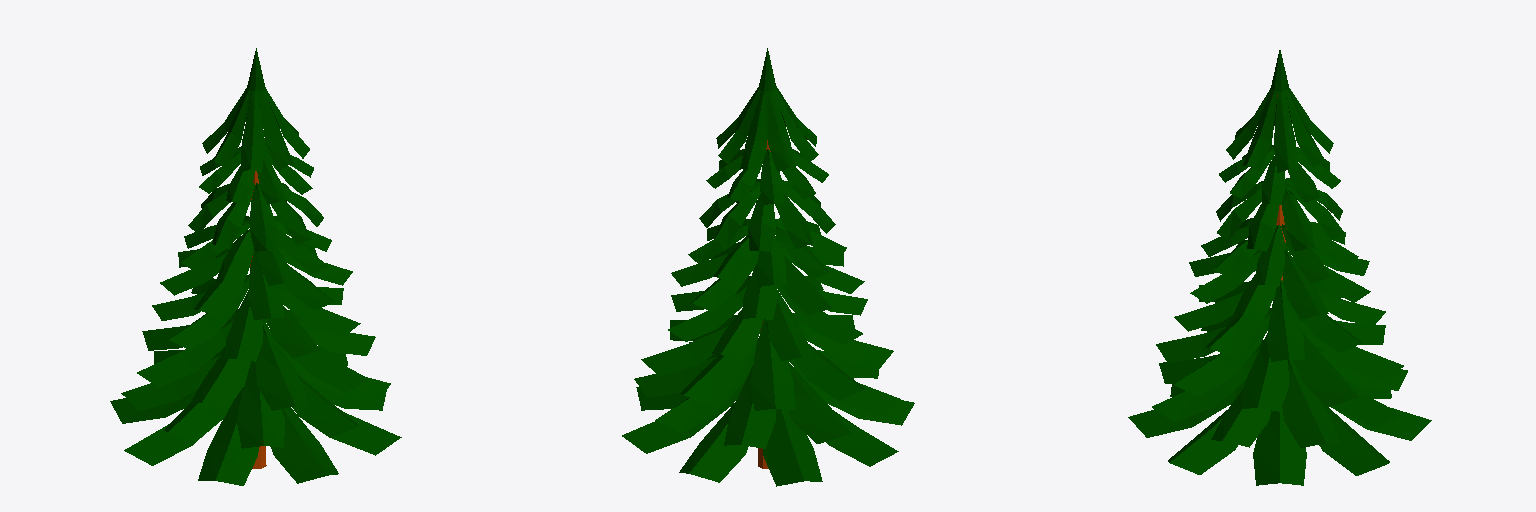
The model's file is tree.obj.
3 renders of one model, left to right at view 1: azimuth 30°, elevation 25°; view 2: azimuth 150°, elevation 25°; view 3: azimuth 270°, elevation 25°, orthographic.
Visible parts, largest first — view 1: Fir-tree_Cylinder.002; view 2: Fir-tree_Cylinder.002; view 3: Fir-tree_Cylinder.002.
Boxes of the visible parts, x1=… form: Fir-tree_Cylinder.002: x1=110, y1=48, x2=401, y2=485; Fir-tree_Cylinder.002: x1=622, y1=48, x2=914, y2=486; Fir-tree_Cylinder.002: x1=1128, y1=50, x2=1431, y2=485.
Bounding box in the file's own units: 3.77 × 5.71 × 3.77.